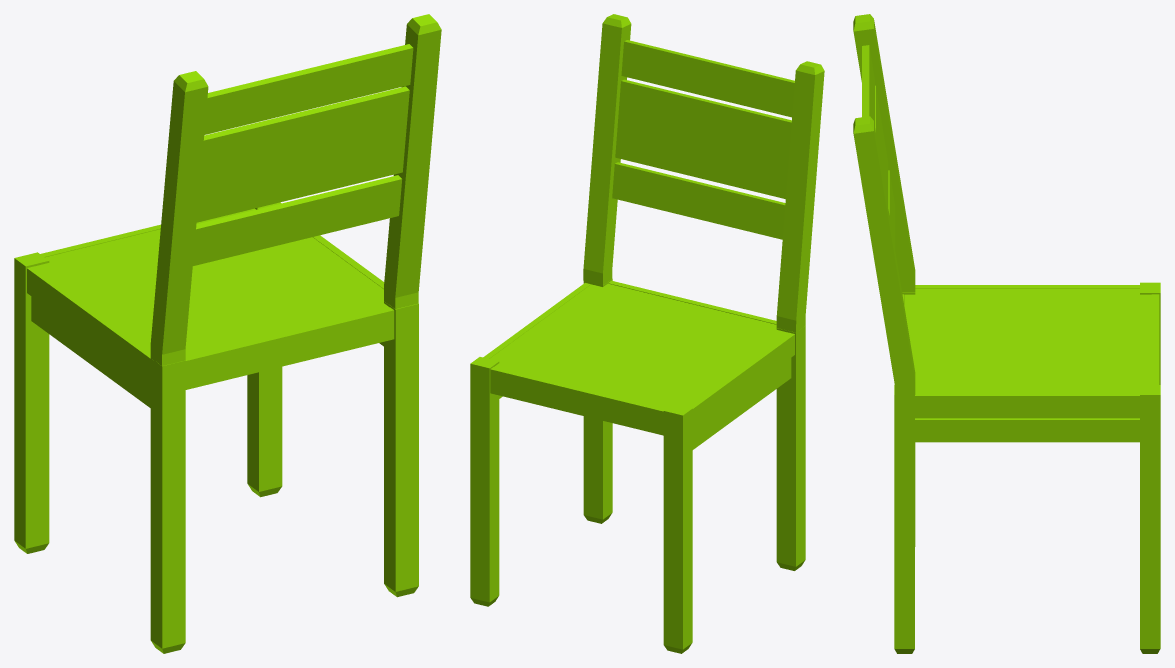
The model's file is Chair.fbx.
3 renders of one model, left to right at view 1: azimuth 30°, elevation 25°; view 2: azimuth 150°, elevation 25°; view 3: azimuth 270°, elevation 25°, orthographic. The views are drawn at different scales.
Parts seen in each view (by area): view 1: Chair; view 2: Chair; view 3: Chair.
Part boxes in pixels (x1=…): Chair: x1=14, y1=14, x2=441, y2=653; Chair: x1=470, y1=14, x2=824, y2=653; Chair: x1=853, y1=14, x2=1160, y2=653.
Size of the model in its own units: 51.44 by 113 by 59.31.
